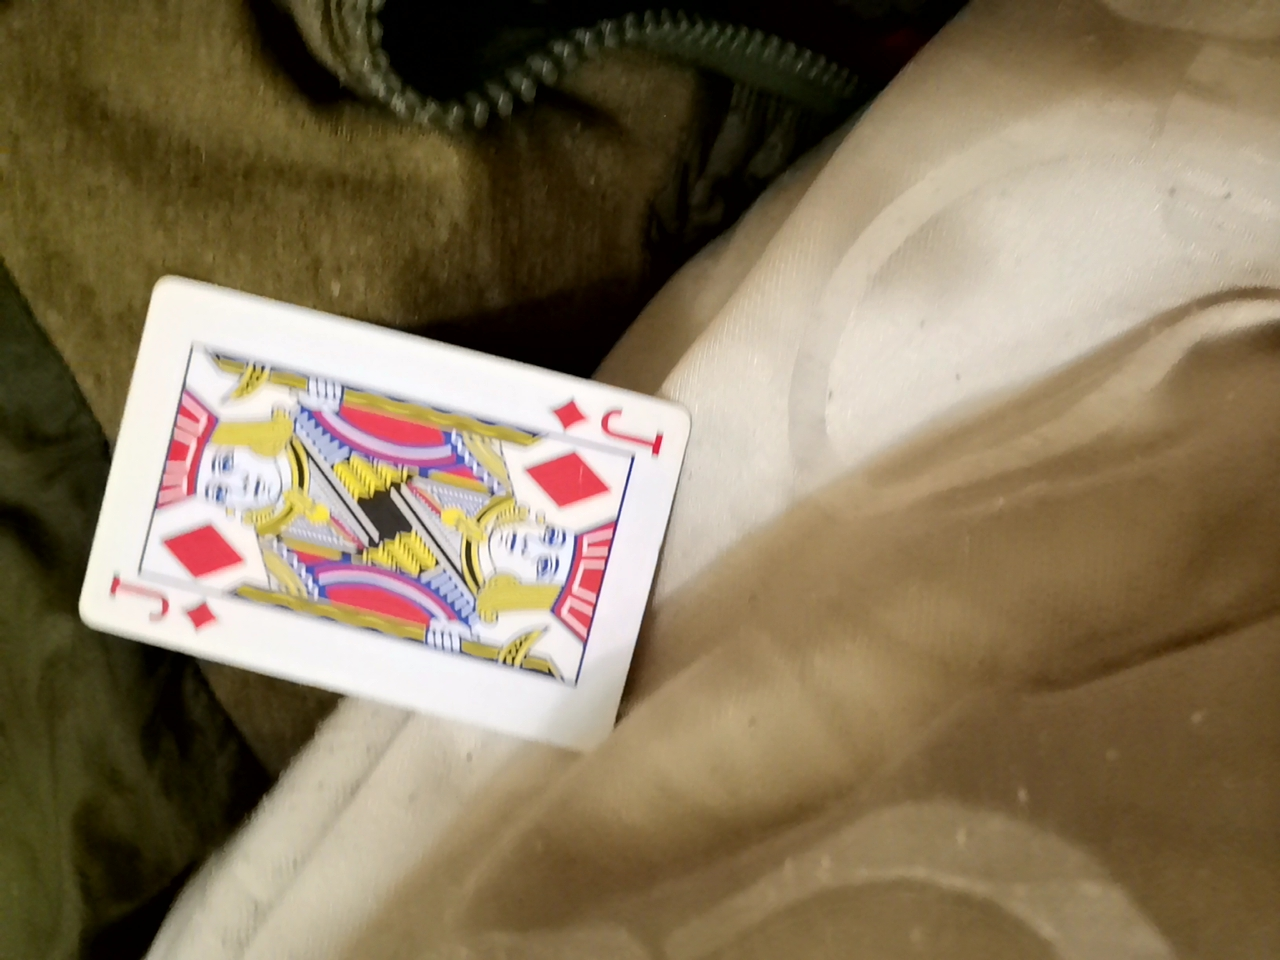fk j: (63, 338, 695, 792)
